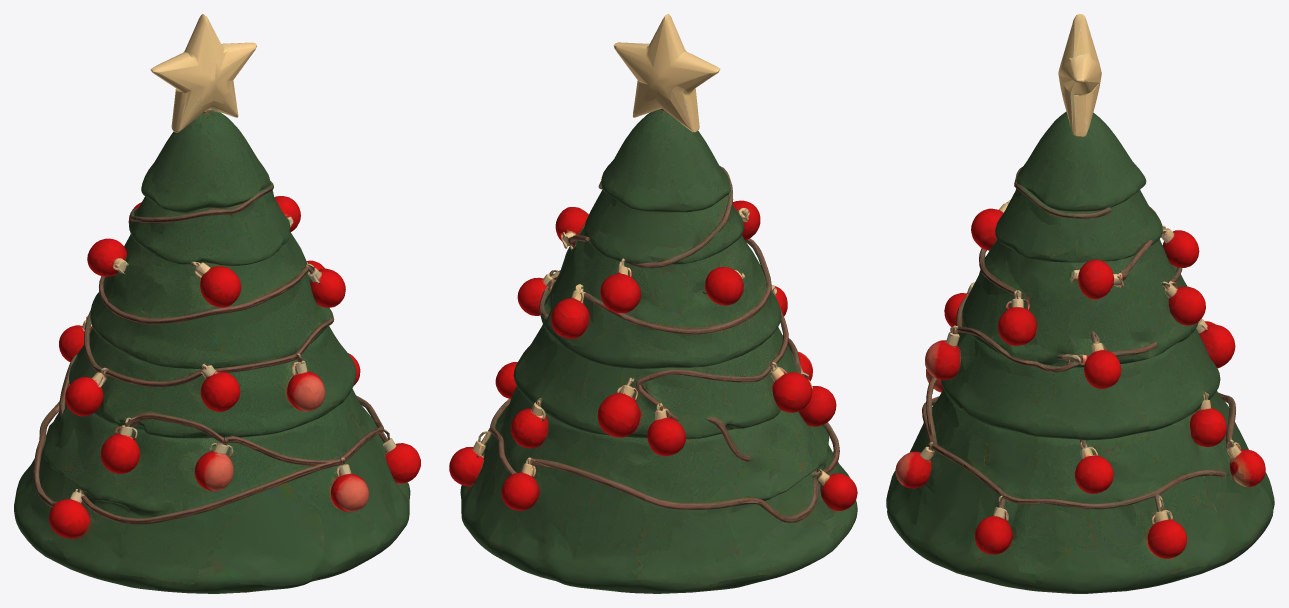
File: tree-hat.glb
3 renders of one model, left to right at view 1: azimuth 30°, elevation 25°; view 2: azimuth 150°, elevation 25°; view 3: azimuth 270°, elevation 25°, orthographic.
Bounding box in the file's own units: 4.18 × 5.71 × 4.04.
1 material, 1 textured.
